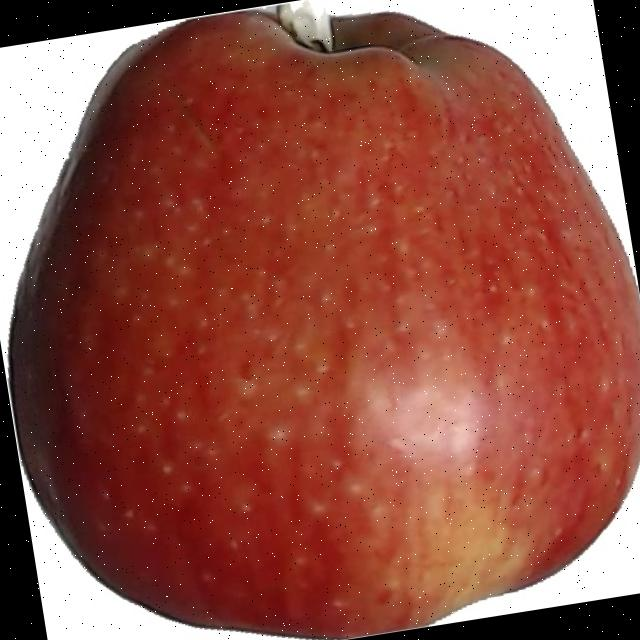apple: (6, 8, 640, 639)
